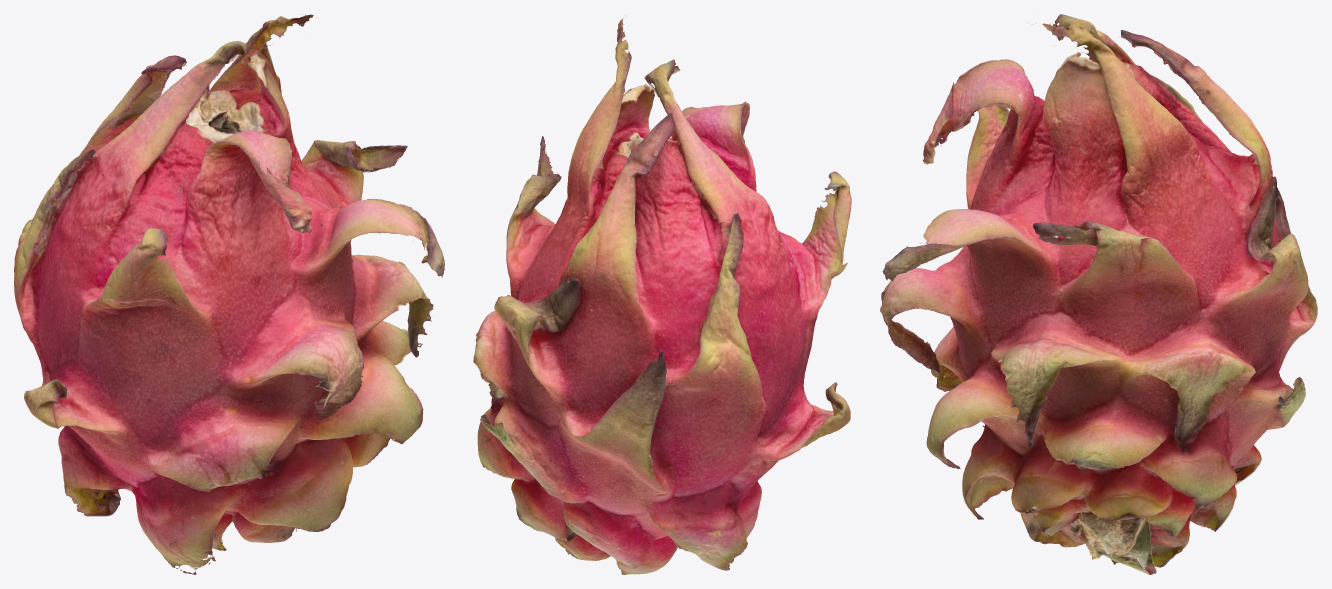
File: pitaya-v1-transformed.glb
The picture shows the model from 3 angles, left to right: view 1: azimuth 30°, elevation 25°; view 2: azimuth 150°, elevation 25°; view 3: azimuth 270°, elevation 25°; orthographic projection. The views are drawn at different scales.
Visible parts, largest first — view 1: pitaya; view 2: pitaya; view 3: pitaya.
Part boxes in pixels (left/top/right/bottom): pitaya: left=14, top=14, right=444, bottom=574; pitaya: left=473, top=18, right=851, bottom=574; pitaya: left=880, top=14, right=1317, bottom=574.
Bounding box in the file's own units: 1.72 × 2.37 × 1.64.
Materials: 1 (1 with a texture image).
